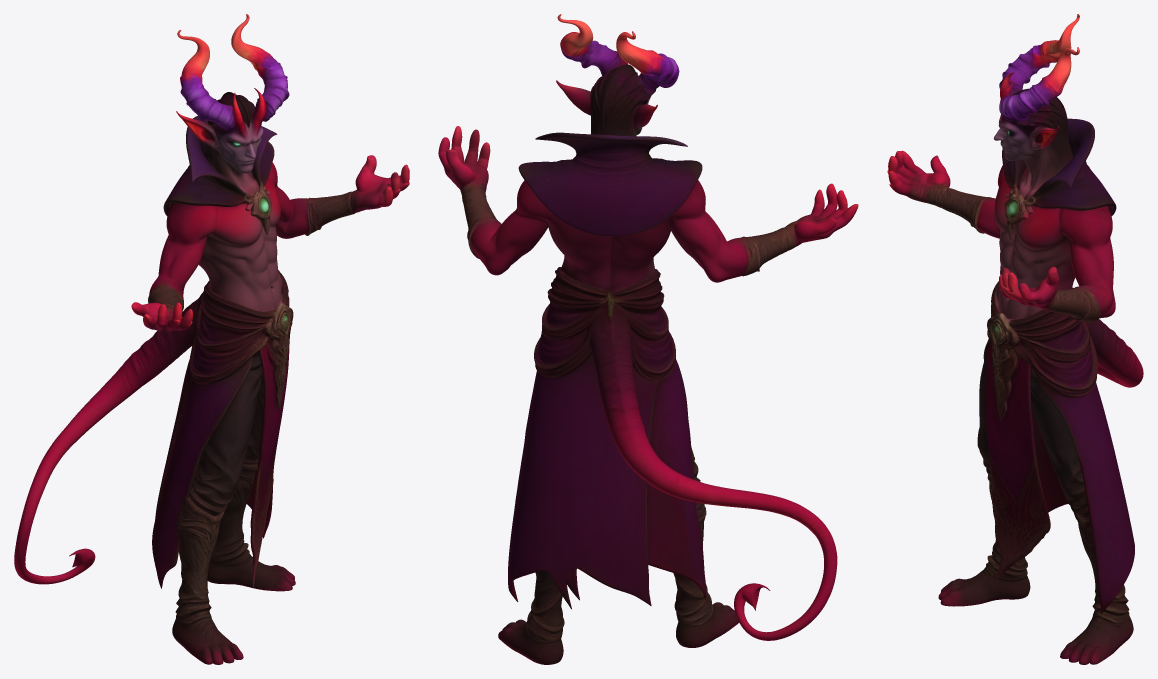
The model's file is tiefling_warlock_male_full_01.glb.
The picture shows the model from 3 angles, left to right: view 1: azimuth 30°, elevation 25°; view 2: azimuth 150°, elevation 25°; view 3: azimuth 270°, elevation 25°; orthographic projection. The views are drawn at different scales.
Visible parts, largest first — view 1: material; view 2: material; view 3: material.
Part boxes in pixels (x1,y1,x2,y2): material: (14,14,409,664); material: (438,14,858,664); material: (887,14,1143,664).
Bounding box in the file's own units: 0.7497 × 1.1 × 0.4294.
Materials: 1 (1 with a texture image).
